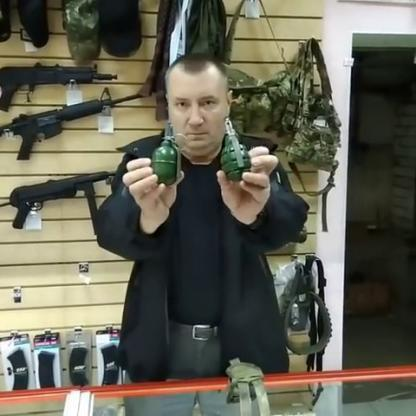Grenade: (221, 118, 252, 182), (152, 123, 179, 184)
Gun: (3, 89, 151, 162), (1, 169, 116, 236), (1, 63, 119, 112)
